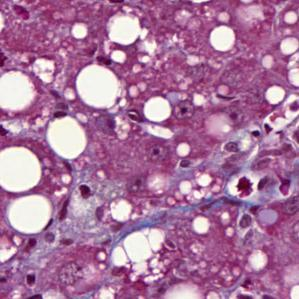ballooning: (106, 224, 178, 285)
